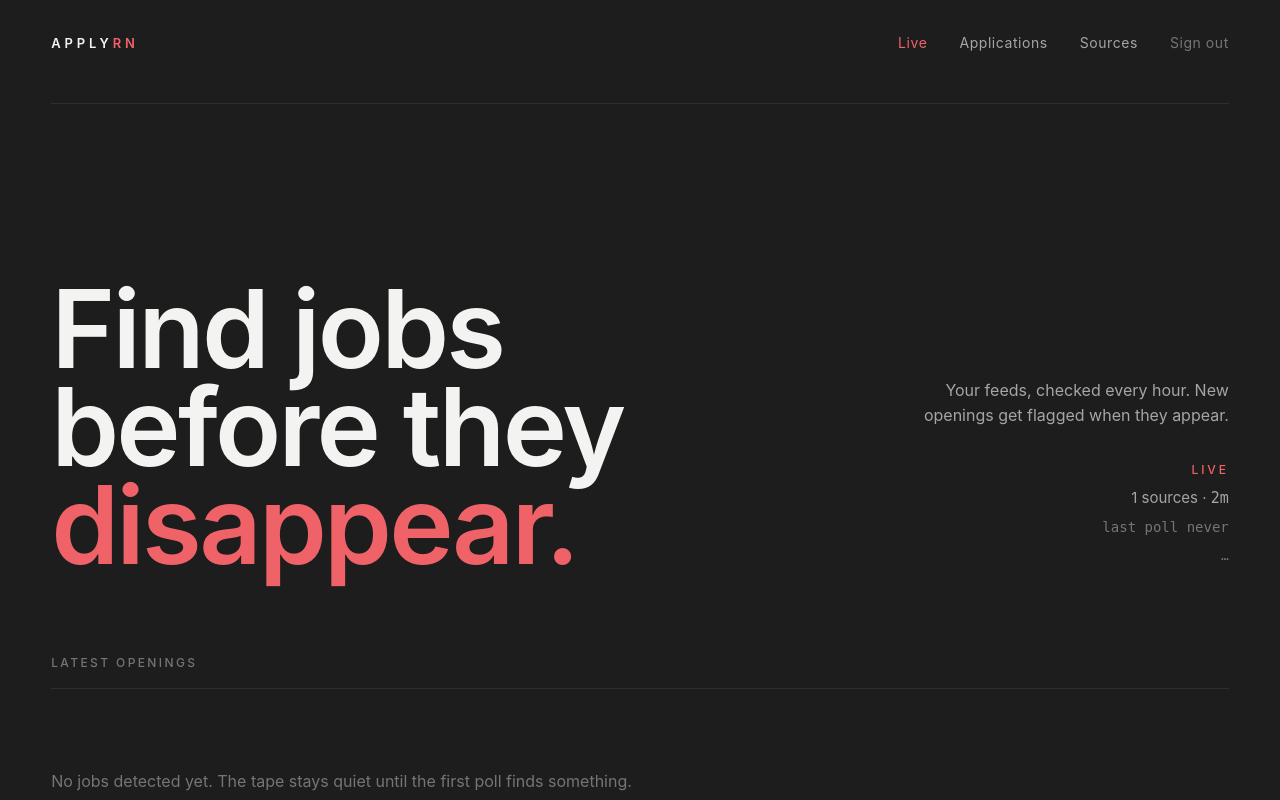
Test case: App tape › updates status from the applications view
The image size is (1280, 800).
Click the button "Applications". click: (1004, 42)
box: [959,32,1048,53]
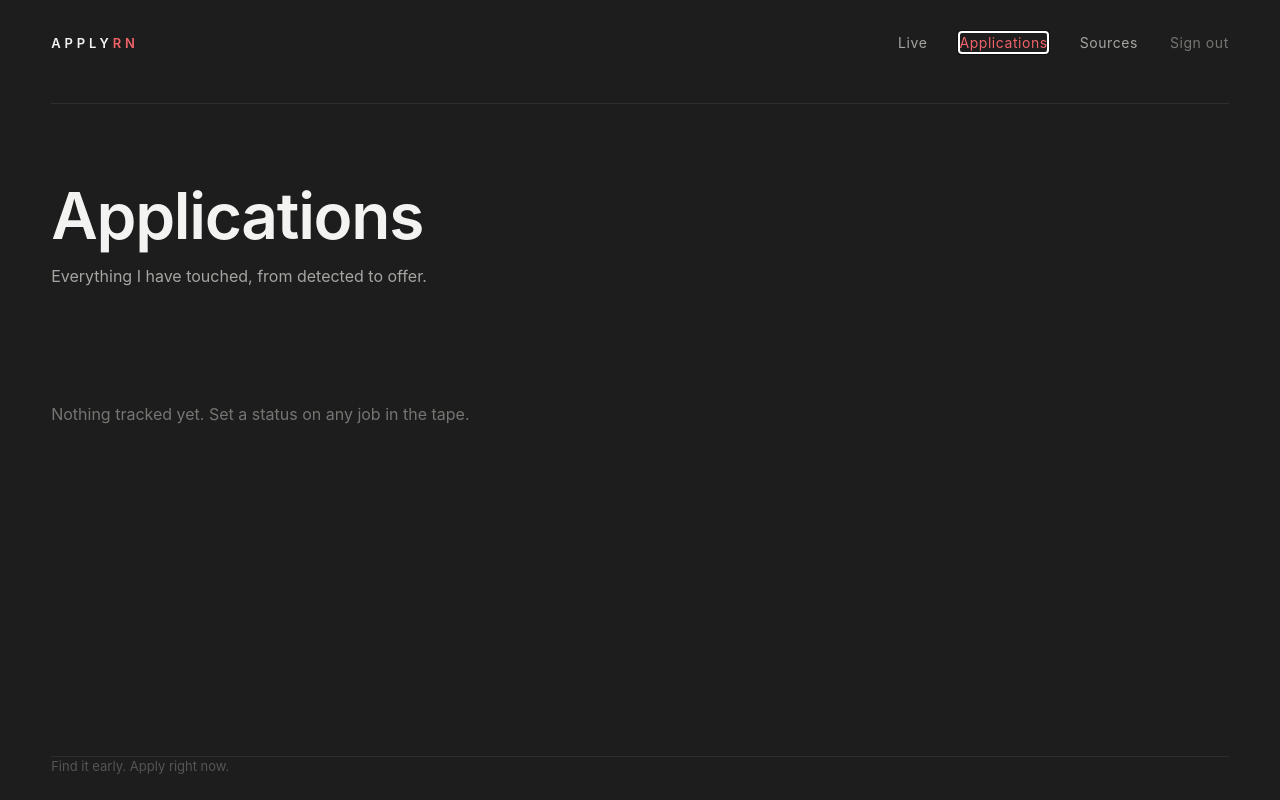
Expected: the text "Nothing tracked yet. Set a status on any job in the tape." is shown, [51,404,470,424]
